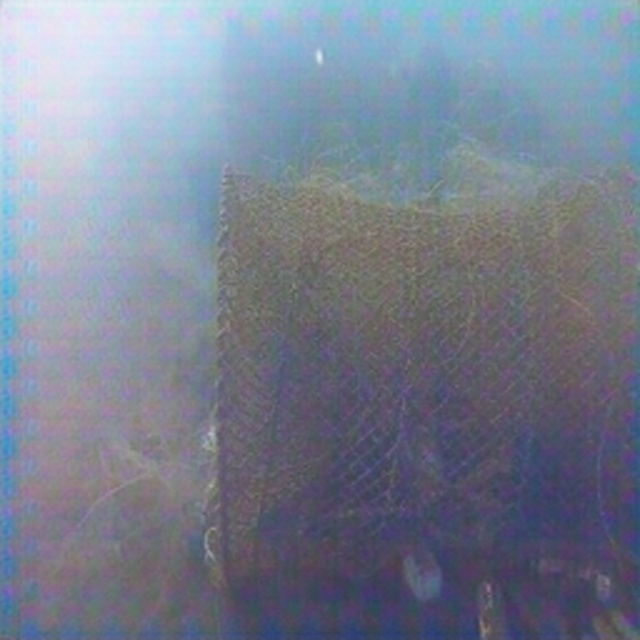mine: (213, 158, 640, 640)
